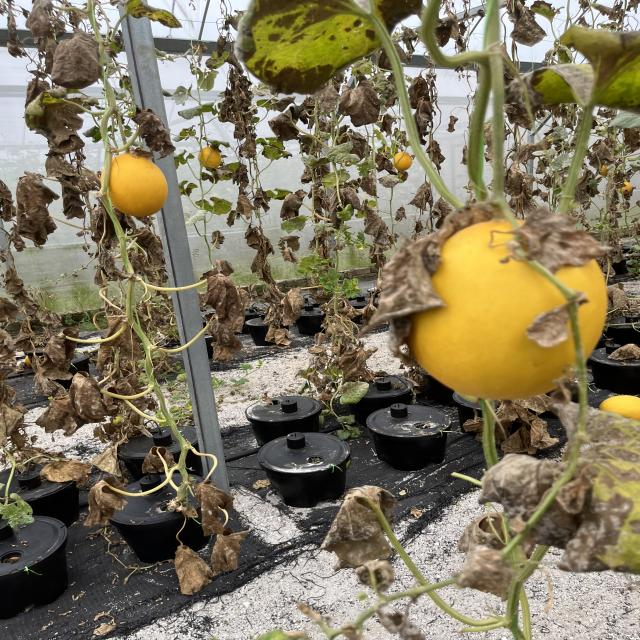bacterial wilt: (230, 0, 382, 91), (318, 488, 393, 573), (10, 92, 96, 159), (52, 164, 102, 219), (63, 480, 106, 542), (44, 34, 96, 85), (171, 538, 219, 586), (25, 324, 73, 371), (12, 180, 48, 242), (0, 391, 41, 444), (506, 0, 546, 54), (178, 482, 224, 528), (333, 84, 384, 124), (112, 0, 188, 26), (266, 292, 300, 341), (74, 446, 121, 480), (0, 268, 28, 322), (68, 379, 105, 414), (438, 8, 472, 44), (264, 112, 300, 142), (412, 86, 437, 129), (235, 118, 262, 157), (240, 254, 269, 289), (218, 528, 244, 566), (281, 193, 306, 232), (222, 76, 246, 107), (278, 238, 296, 264)
